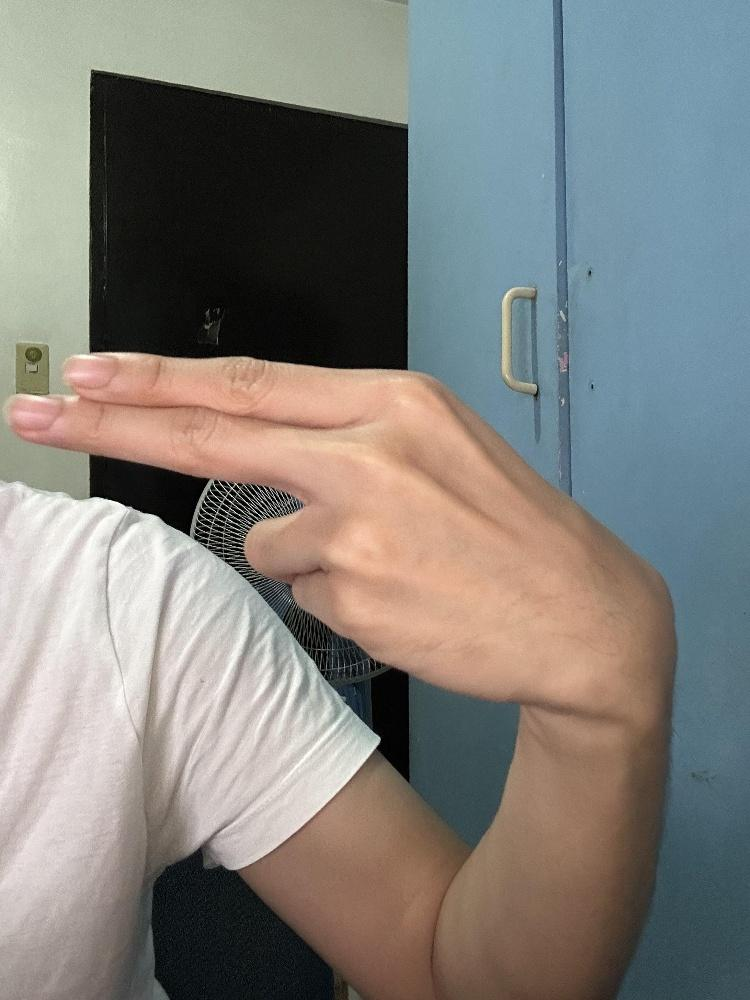h: (0, 344, 680, 727)
